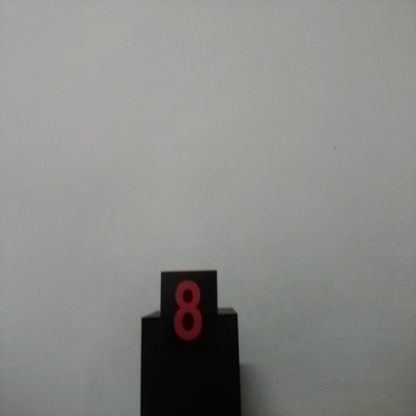id_8: (160, 272, 218, 363)
